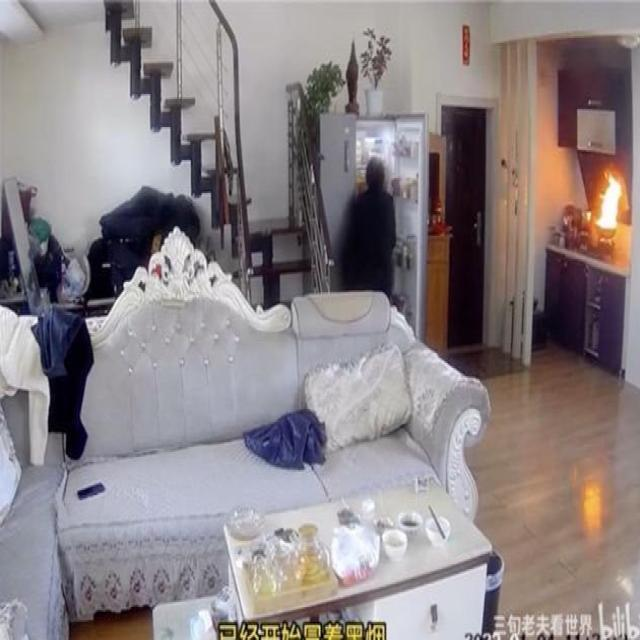smoke: (592, 166, 627, 238)
